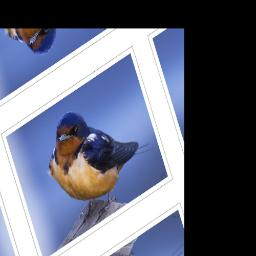Swallow: (34, 67, 164, 241)
